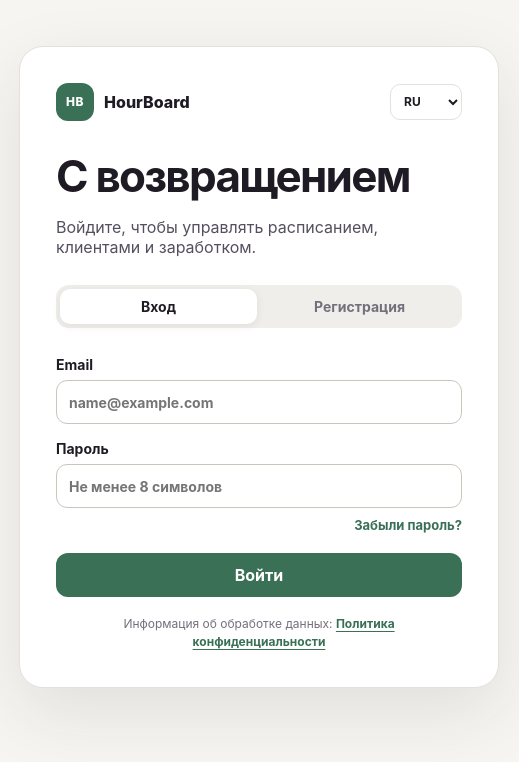
Test: LoginPage › shows email confirmation instructions after registration
Click the button "Регистрация": (360, 307) [261,289,458,324]
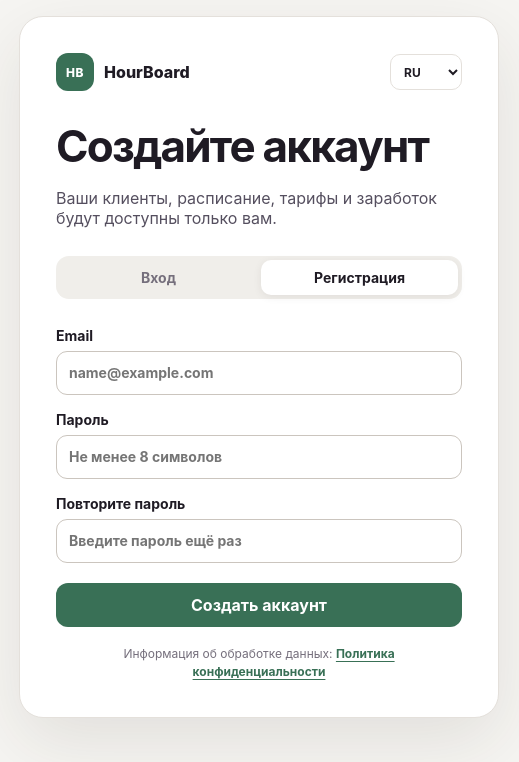
In the field labelled "Email": (259, 373) [56,351,462,395], type "new@example.com"
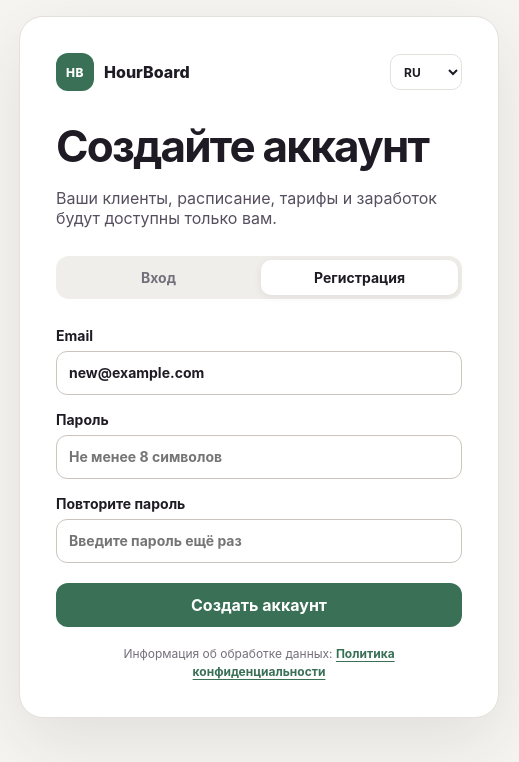
In the password field labelled "Пароль": (259, 457) [56,435,462,479], type "password123"
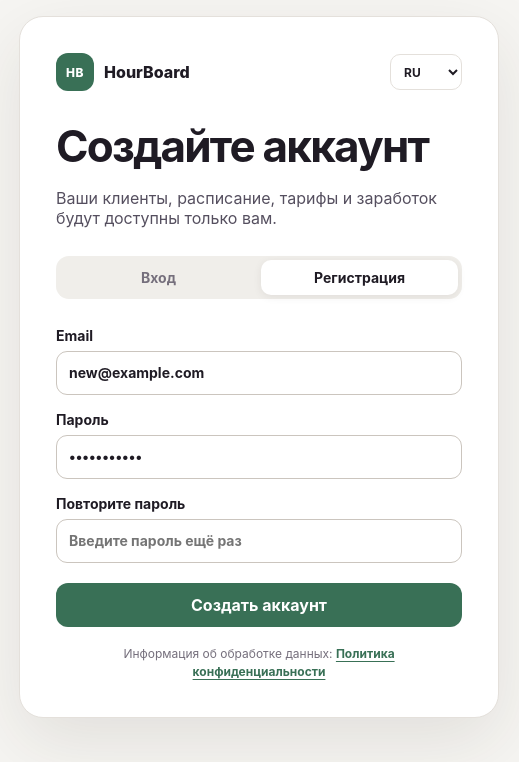
In the password field labelled "Повторите пароль": (259, 541) [56,519,462,563], type "password123"
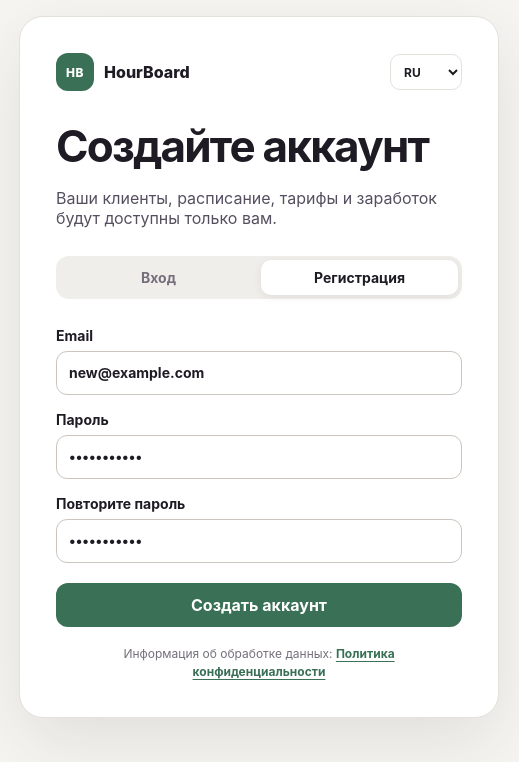
Click the button "Создать аккаунт": (259, 605) [56,583,462,627]
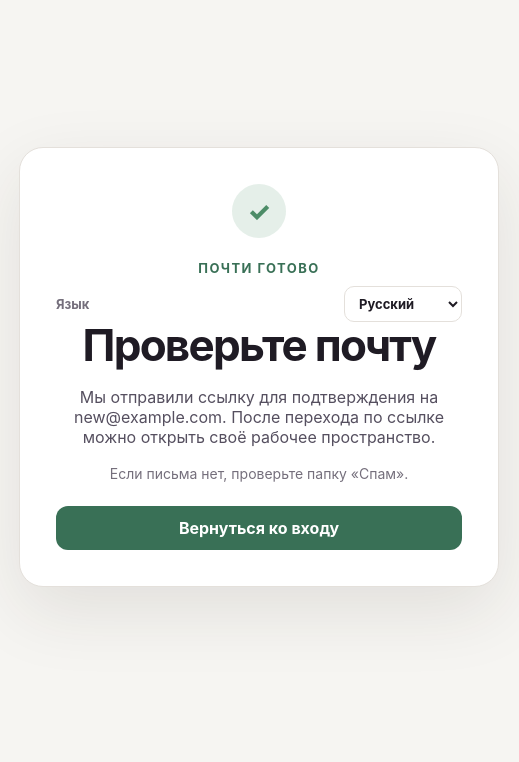
Expected: the heading "Проверьте почту" is shown, [56,322,462,369]
Expected: the text "new@example.com" is shown, [74,387,444,447]
